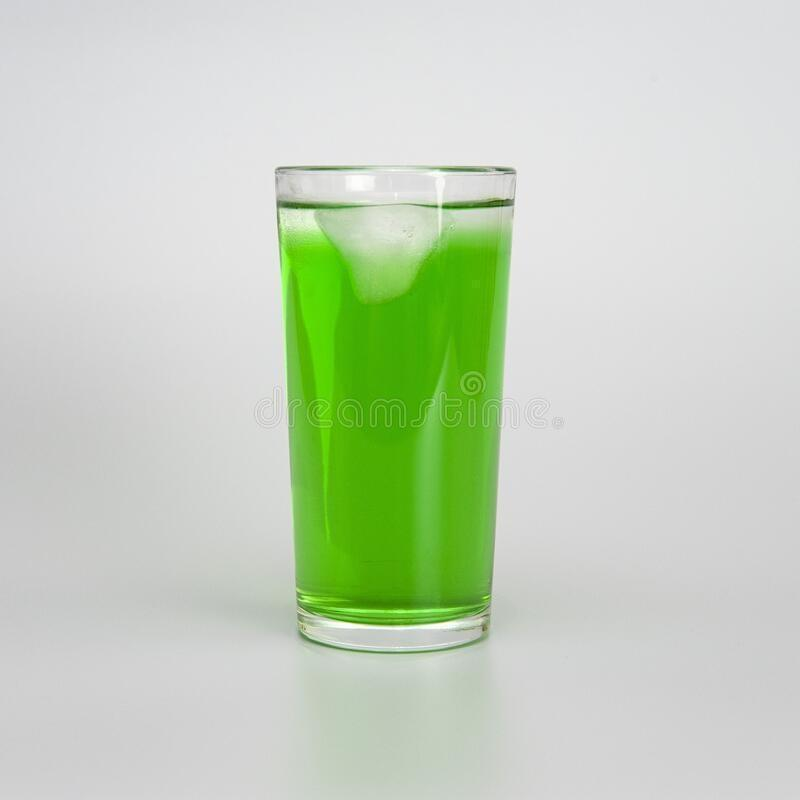glass-normal: (272, 160, 521, 654)
